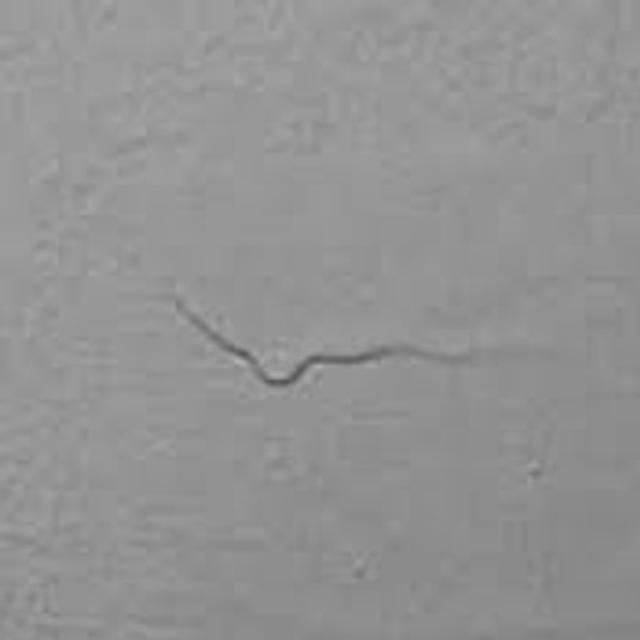paint drips: (170, 273, 517, 410)
